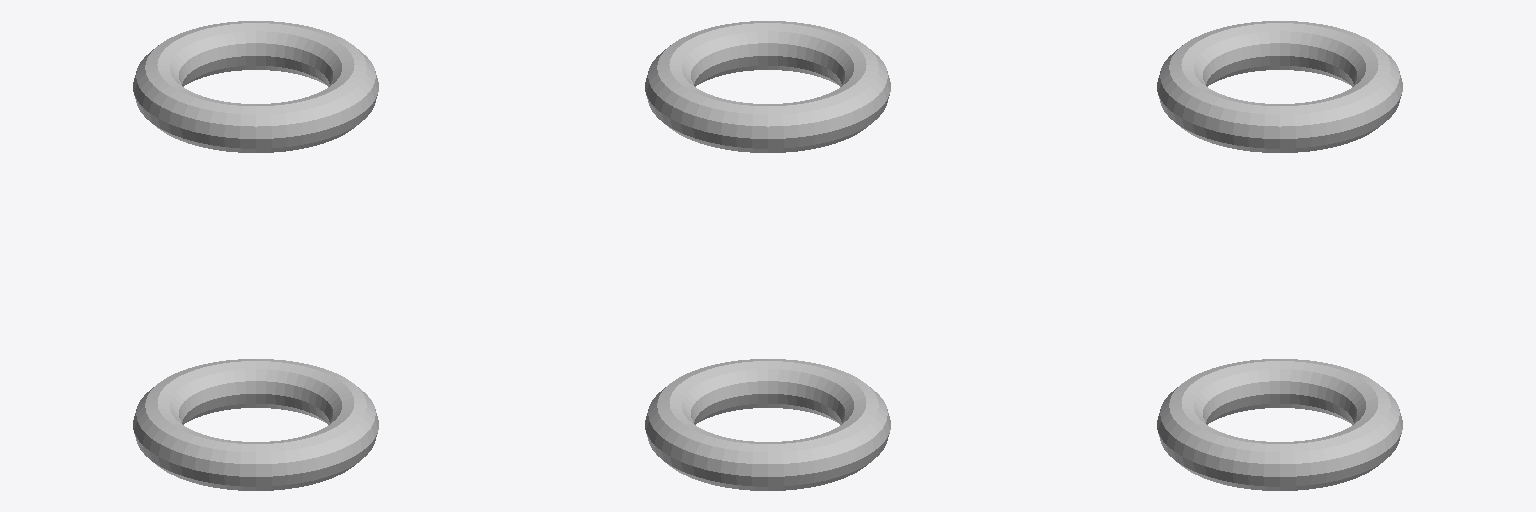
Rendered from Teleporter.obj.
3 views of the same model, side by side, from view 1: azimuth 30°, elevation 25°; view 2: azimuth 150°, elevation 25°; view 3: azimuth 270°, elevation 25° (orthographic).
Parts seen in each view (by area): view 1: Torus, g; view 2: Torus, g; view 3: Torus, g.
Boxes of the visible parts, x1=… form: Torus: x1=133, y1=359, x2=378, y2=490; g: x1=133, y1=21, x2=378, y2=152; Torus: x1=645, y1=359, x2=890, y2=490; g: x1=645, y1=21, x2=890, y2=152; Torus: x1=1157, y1=359, x2=1402, y2=490; g: x1=1157, y1=21, x2=1402, y2=152.
Size of the model in its own units: 2.5 by 4.28 by 2.5.